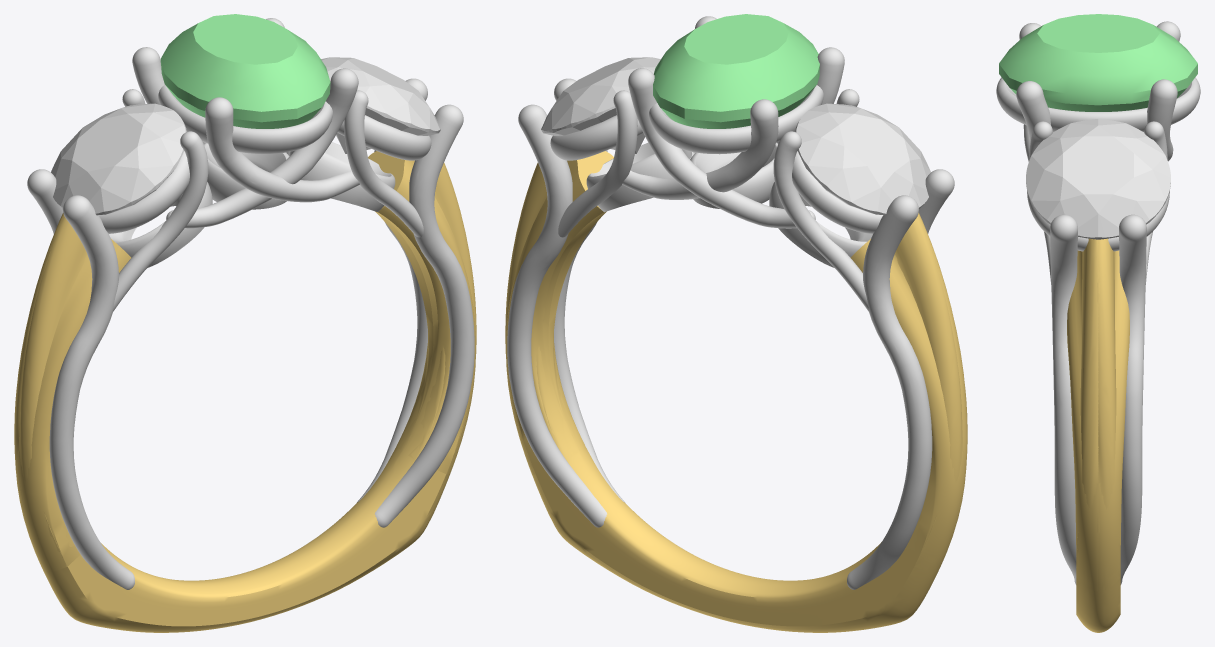
Rendered from BlaineV3eng_blender.glb.
3 renders of one model, left to right at view 1: azimuth 30°, elevation 25°; view 2: azimuth 150°, elevation 25°; view 3: azimuth 270°, elevation 25°, orthographic. The views are drawn at different scales.
Visible parts, largest first — view 1: V3 Blaine PT for 3d model, V3 Blaine YG for 3d model, Blaine garnet for 3d model, Blaine dia for 3d model.001, Blaine dia for 3d model; view 2: V3 Blaine PT for 3d model, V3 Blaine YG for 3d model, Blaine garnet for 3d model, Blaine dia for 3d model.001, Blaine dia for 3d model; view 3: V3 Blaine PT for 3d model, V3 Blaine YG for 3d model, Blaine garnet for 3d model, Blaine dia for 3d model.
Part boxes in pixels (box(x1,y1,x2,y2)): V3 Blaine PT for 3d model: box(27, 18, 474, 589); V3 Blaine YG for 3d model: box(14, 151, 476, 632); Blaine garnet for 3d model: box(160, 14, 330, 128); Blaine dia for 3d model.001: box(51, 103, 186, 215); Blaine dia for 3d model: box(321, 57, 440, 153); V3 Blaine PT for 3d model: box(507, 16, 954, 589); V3 Blaine YG for 3d model: box(505, 151, 967, 632); Blaine garnet for 3d model: box(653, 14, 819, 128); Blaine dia for 3d model.001: box(795, 103, 930, 215); Blaine dia for 3d model: box(541, 57, 660, 153); V3 Blaine PT for 3d model: box(996, 21, 1200, 584); V3 Blaine YG for 3d model: box(1067, 238, 1129, 632); Blaine garnet for 3d model: box(999, 14, 1197, 111); Blaine dia for 3d model: box(1026, 119, 1170, 239).
Bounding box in the file's own units: 20.5 × 25.08 × 8.3.
